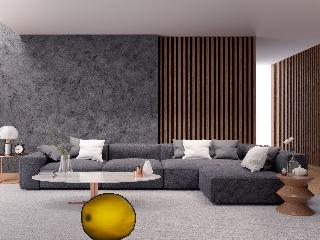lemon: (83, 196, 136, 240)
